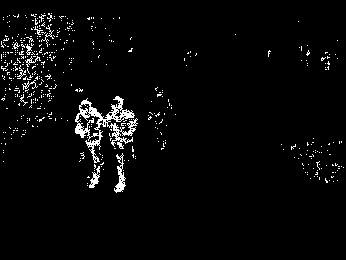person: (101, 96, 139, 191), (75, 100, 102, 190), (148, 85, 174, 150)
